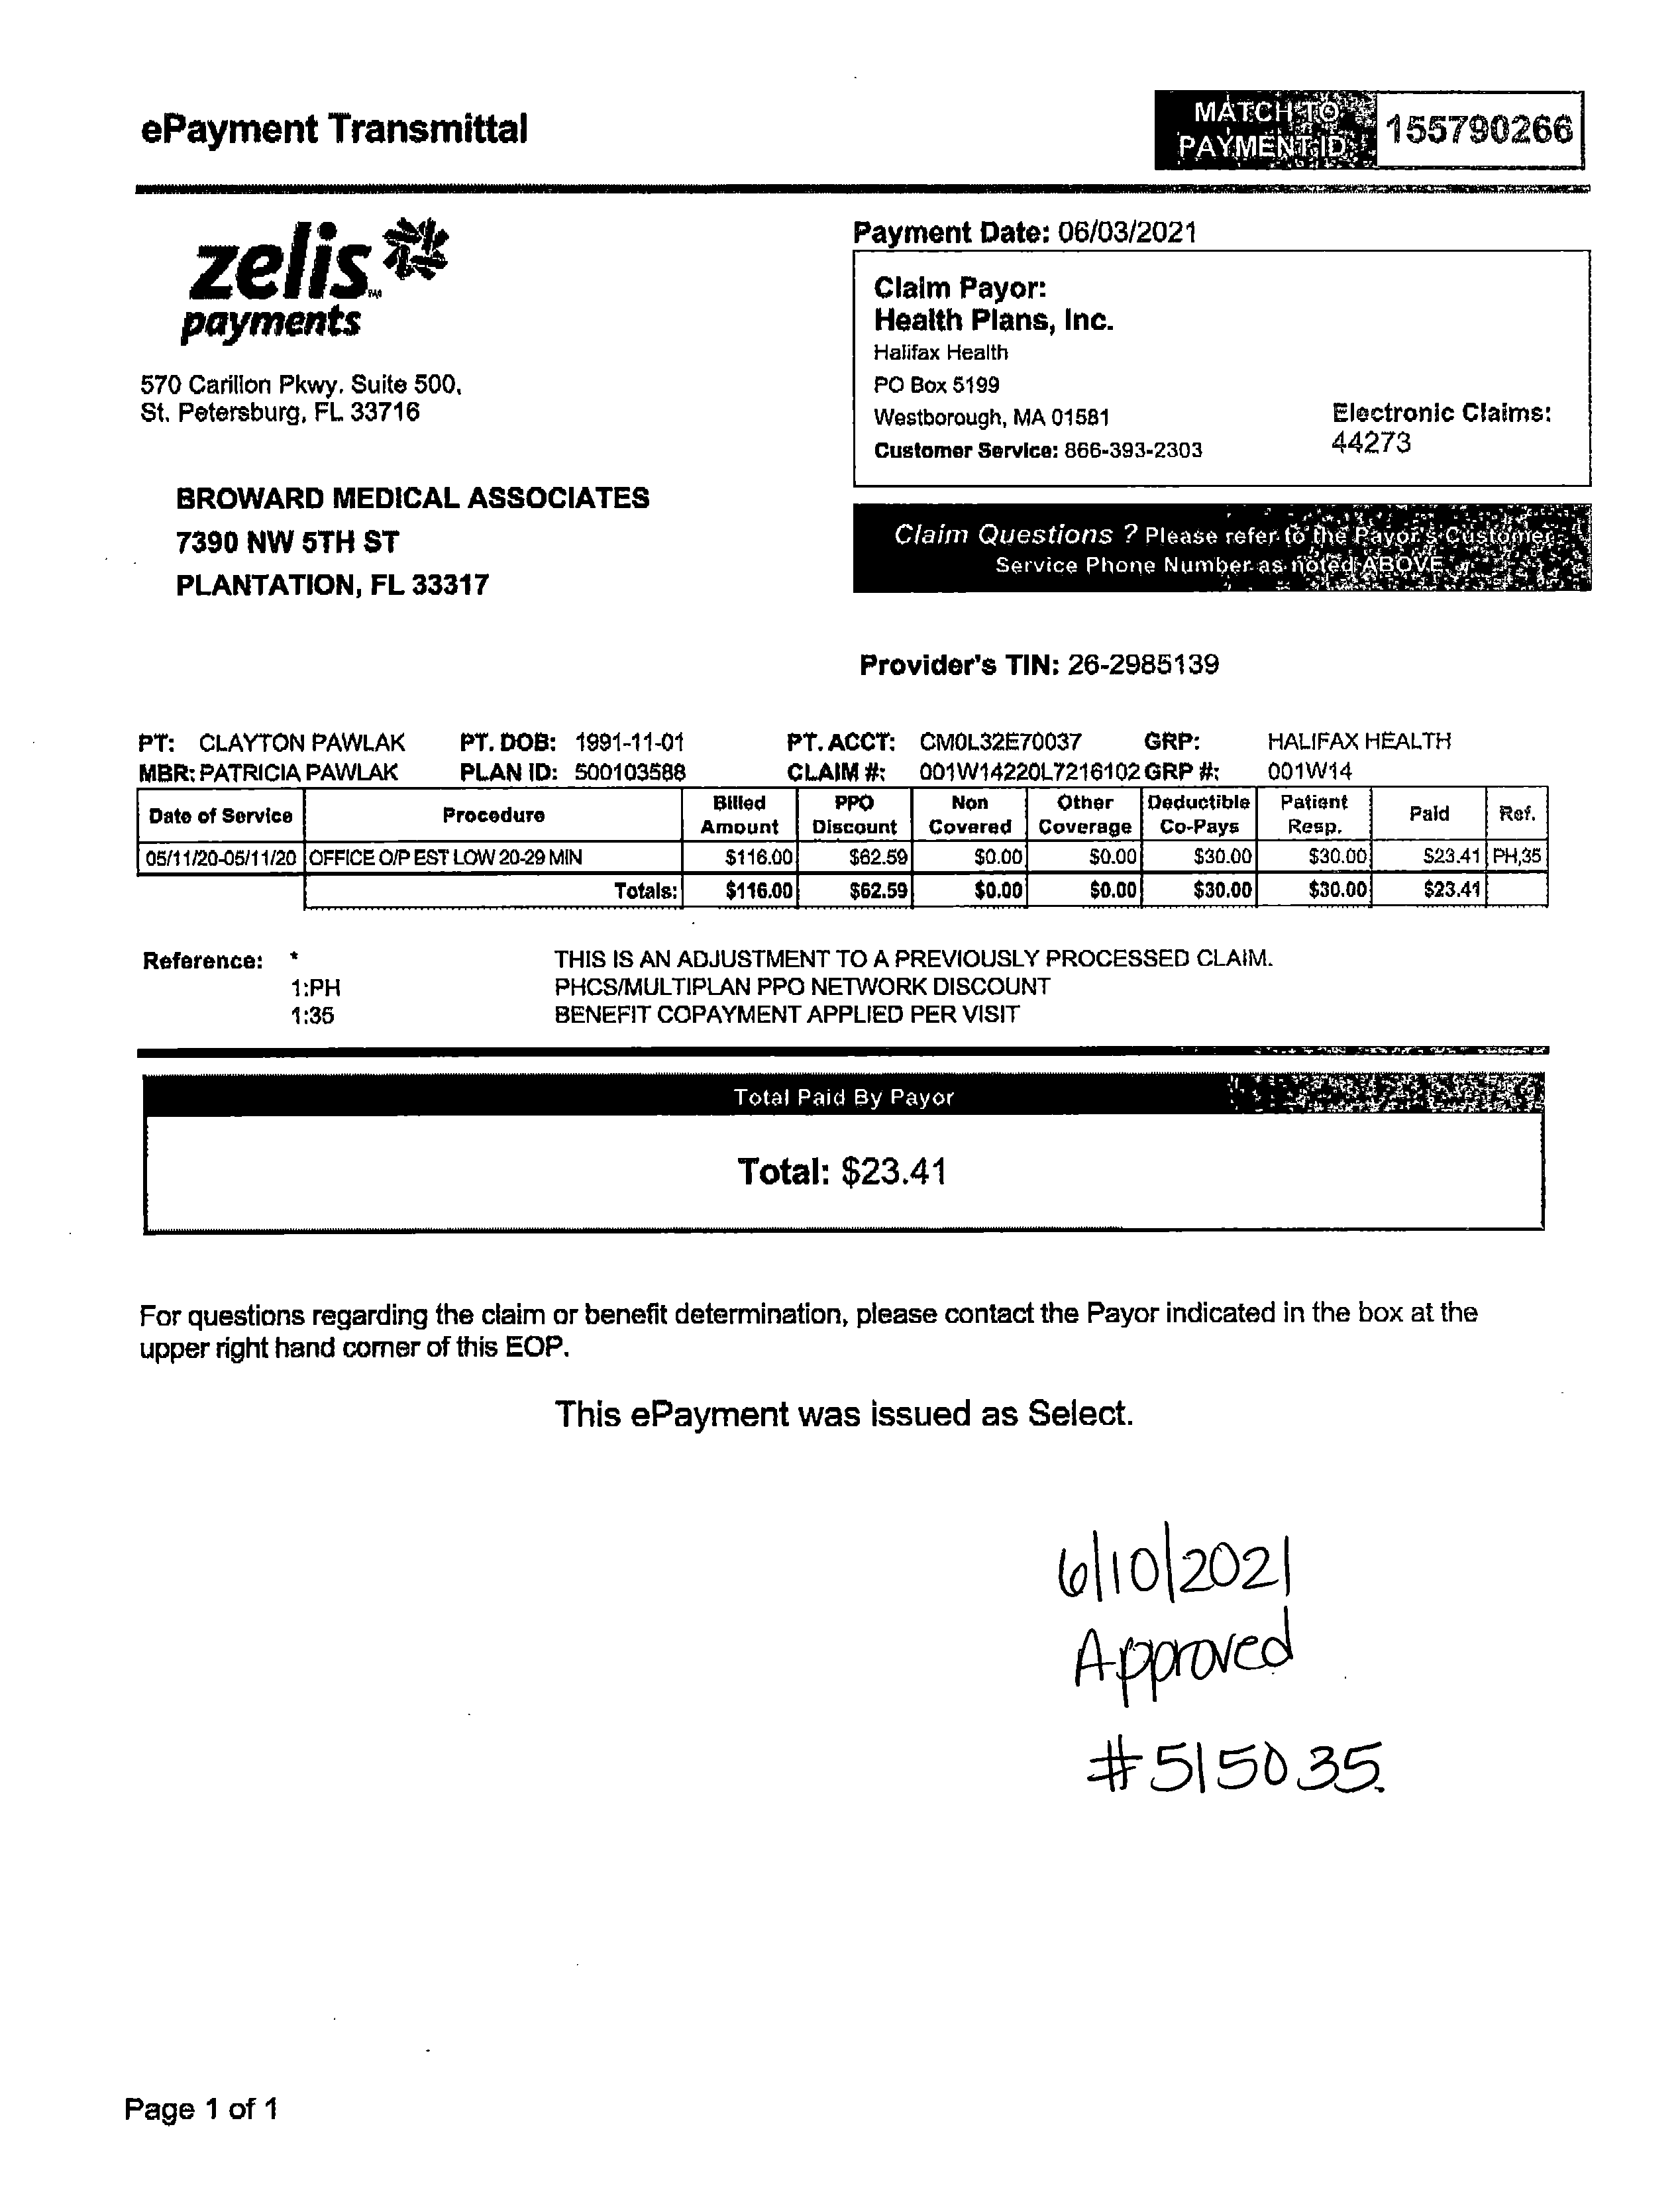data: (845, 244, 1601, 487), (164, 475, 686, 630)
table: (129, 724, 1555, 925)
